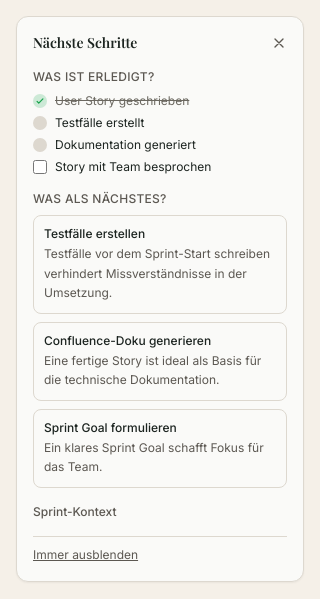
CoachPanel — Dismiss › bricht Bestätigung bei «Nein» ab
The width and height of the screenshot is (320, 599).
Click the button "Immer ausblenden".
click(86, 554)  # box [33,546,138,562]
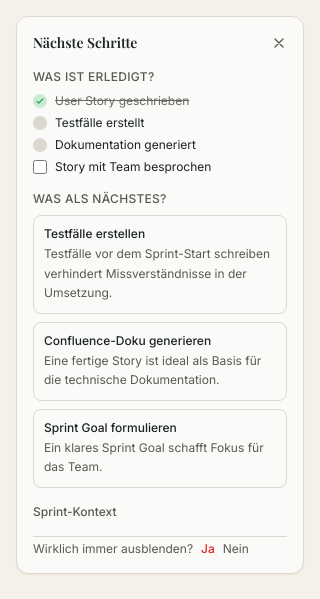
Click the button "Nein".
click(236, 548)  # box [223,540,249,556]
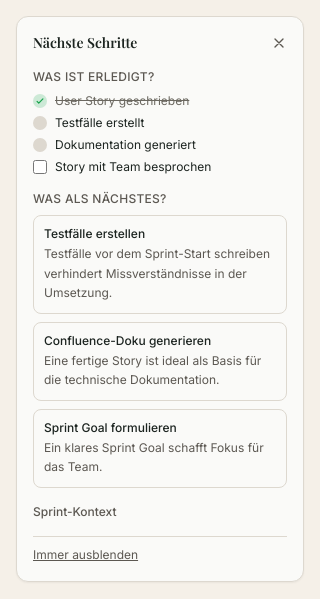
expect the text "Wirklich immer ausblenden?" is gone: met
